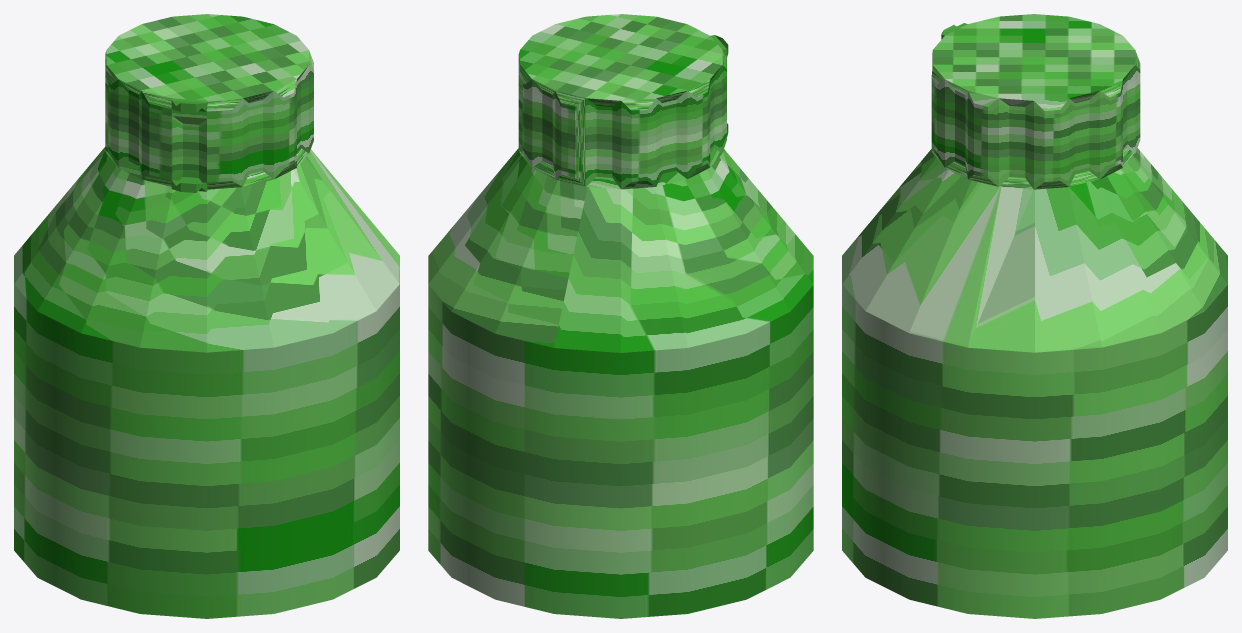
The model's file is current.DAE.
The picture shows the model from 3 angles, left to right: view 1: azimuth 30°, elevation 25°; view 2: azimuth 150°, elevation 25°; view 3: azimuth 270°, elevation 25°; orthographic projection.
Visible parts, largest first — view 1: Cylinder001; view 2: Cylinder001; view 3: Cylinder001.
Part boxes in pixels (x1,y1,x2,y2): Cylinder001: (14, 14, 399, 618); Cylinder001: (428, 14, 813, 618); Cylinder001: (842, 14, 1227, 618).
Size of the model in its own units: 7.87 by 7.75 by 10.62.
1 material, 1 textured.
